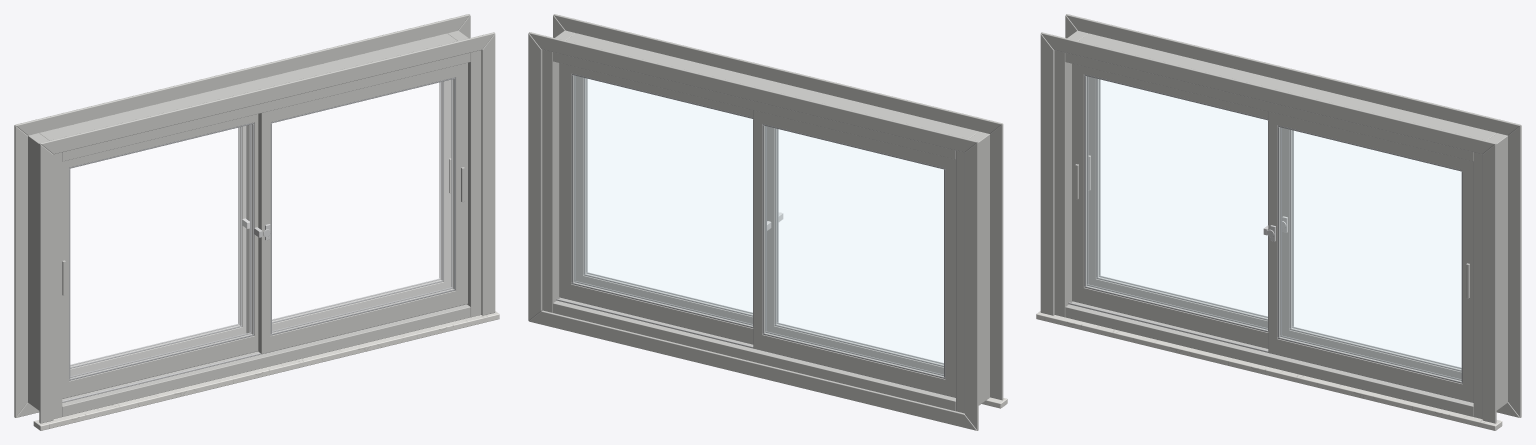
The model's file is mk_win_bed_ne.glb.
The picture shows the model from 3 angles, left to right: view 1: azimuth 30°, elevation 25°; view 2: azimuth 150°, elevation 25°; view 3: azimuth 330°, elevation 25°; orthographic projection.
Visible parts, largest first — view 1: mk_win_bed_ne_glass, mk_win_bed_ne_casing, mk_win_bed_ne_frame, mk_win_bed_ne_sash_inner_r, mk_win_bed_ne_sash_inner_l, mk_win_bed_ne_sash_outer_r, mk_win_bed_ne_sill, mk_win_bed_ne_sash_outer_l, mk_win_bed_ne_hardware; view 2: mk_win_bed_ne_glass, mk_win_bed_ne_casing, mk_win_bed_ne_frame, mk_win_bed_ne_sash_outer_l, mk_win_bed_ne_sash_outer_r, mk_win_bed_ne_sash_inner_r, mk_win_bed_ne_sash_inner_l; view 3: mk_win_bed_ne_glass, mk_win_bed_ne_frame, mk_win_bed_ne_casing, mk_win_bed_ne_sash_inner_r, mk_win_bed_ne_sash_inner_l, mk_win_bed_ne_sash_outer_l, mk_win_bed_ne_sash_outer_r, mk_win_bed_ne_sill, mk_win_bed_ne_hardware.
Boxes of the visible parts, box(x1,y1,x2,y2) form: mk_win_bed_ne_glass: box(70, 79, 453, 377); mk_win_bed_ne_casing: box(14, 14, 495, 423); mk_win_bed_ne_frame: box(28, 30, 481, 419); mk_win_bed_ne_sash_inner_r: box(258, 62, 467, 353); mk_win_bed_ne_sash_inner_l: box(62, 114, 258, 398); mk_win_bed_ne_sash_outer_r: box(246, 79, 451, 333); mk_win_bed_ne_sill: box(33, 311, 499, 430); mk_win_bed_ne_sash_outer_l: box(70, 126, 246, 376); mk_win_bed_ne_hardware: box(62, 158, 464, 295); mk_win_bed_ne_glass: box(574, 76, 943, 376); mk_win_bed_ne_casing: box(528, 14, 1003, 430); mk_win_bed_ne_frame: box(542, 30, 989, 413); mk_win_bed_ne_sash_outer_l: box(753, 110, 955, 397); mk_win_bed_ne_sash_outer_r: box(559, 63, 753, 344); mk_win_bed_ne_sash_inner_r: box(576, 76, 752, 323); mk_win_bed_ne_sash_inner_l: box(767, 126, 943, 374); mk_win_bed_ne_glass: box(1086, 76, 1461, 380); mk_win_bed_ne_frame: box(1054, 30, 1507, 419); mk_win_bed_ne_casing: box(1040, 14, 1521, 423); mk_win_bed_ne_sash_inner_r: box(1268, 111, 1473, 402); mk_win_bed_ne_sash_inner_l: box(1072, 63, 1268, 348); mk_win_bed_ne_sash_outer_l: box(1088, 77, 1267, 327); mk_win_bed_ne_sash_outer_r: box(1282, 128, 1461, 379); mk_win_bed_ne_sill: box(1036, 311, 1502, 430); mk_win_bed_ne_hardware: box(1075, 155, 1469, 298).
Bounding box in the file's own units: 2.25 × 1.37 × 0.242.
Materials: 6 (1 with a texture image).
